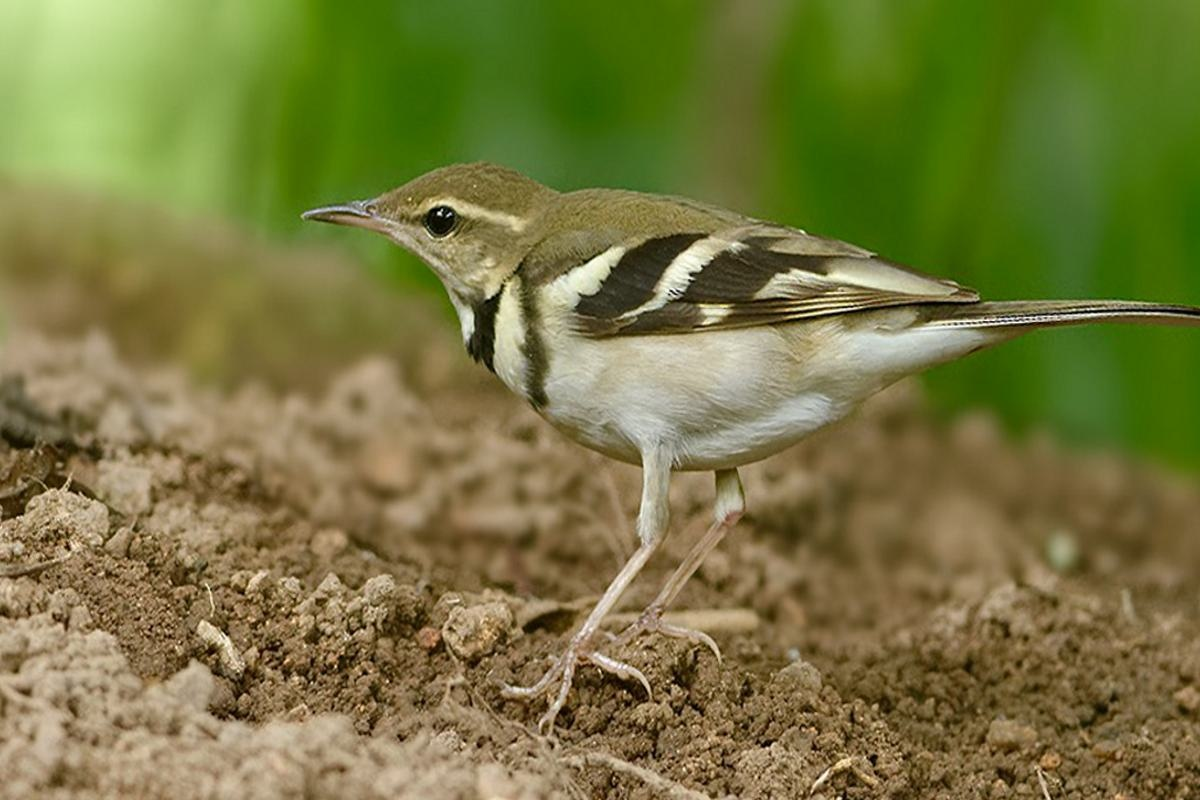wagtail: (315, 108, 1061, 627)
